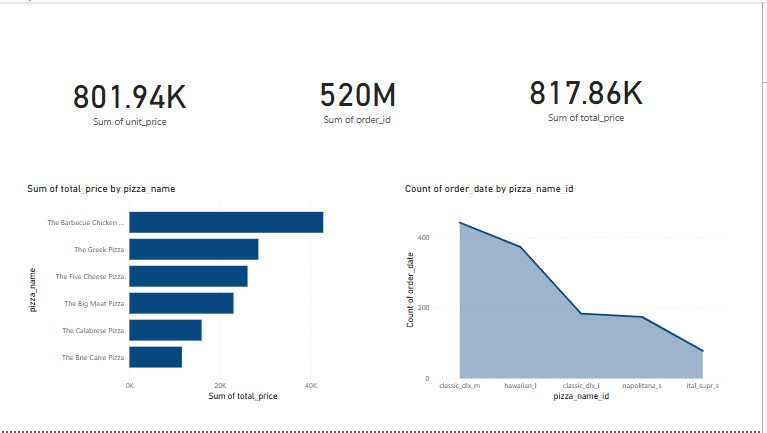

This screenshot's page, from the dashboard's own definition file:
{"tool":"powerbi","page":{"name":"Page 2","canvas":[1280,720],"ordinal":1},"visuals":[{"type":"card","fields":{"Values":["Sum(pizza_sales.unit_price)"]},"box":[89,107.5,257,109.2],"z":0},{"type":"areaChart","fields":{"Category":["pizza_sales.pizza_name_id"],"Y":["CountNonNull(pizza_sales.order_date)"]},"box":[675.3,302.4,551,372.9],"z":1000},{"type":"clusteredBarChart","fields":{"Category":["pizza_sales.pizza_name"],"Y":["Sum(pizza_sales.total_price)"]},"box":[40.3,302.4,572.8,372.9],"z":2000},{"type":"card","fields":{"Values":["Sum(pizza_sales.order_id)"]},"box":[473.7,102.5,252,114.2],"z":3000},{"type":"card","fields":{"Values":["Sum(pizza_sales.total_price)"]},"box":[856.7,95.7,255.3,120.9],"z":4000}]}

Visuals, with their boxes in screenshot pixels (x1, y1, x2, y2), scaled from the page's 1280x720 canvas onto the 767x433 screenshot:
card - Sum(pizza_sales.unit_price): rect(53, 65, 207, 130)
areaChart - pizza_sales.pizza_name_id x CountNonNull(pizza_sales.order_date): rect(405, 182, 735, 406)
clusteredBarChart - pizza_sales.pizza_name x Sum(pizza_sales.total_price): rect(24, 182, 367, 406)
card - Sum(pizza_sales.order_id): rect(284, 62, 435, 130)
card - Sum(pizza_sales.total_price): rect(513, 58, 666, 130)
